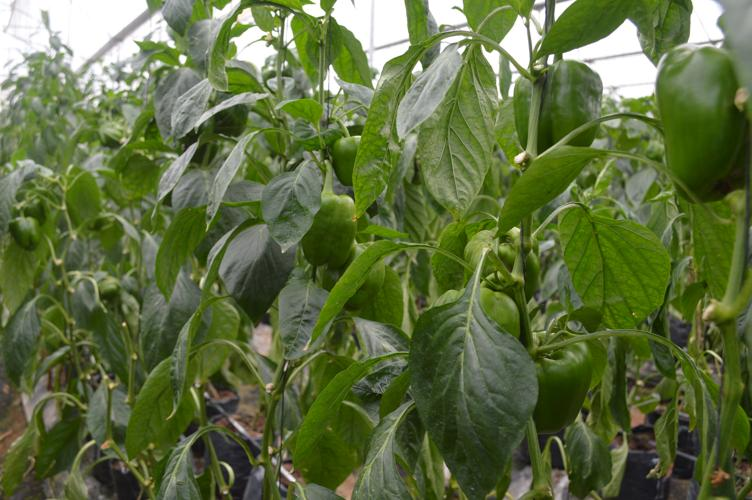BellPepper: (651, 44, 742, 202), (512, 59, 602, 154), (524, 332, 591, 433), (465, 227, 544, 296), (436, 287, 523, 337), (302, 191, 357, 269), (319, 246, 382, 307), (326, 135, 363, 187)
